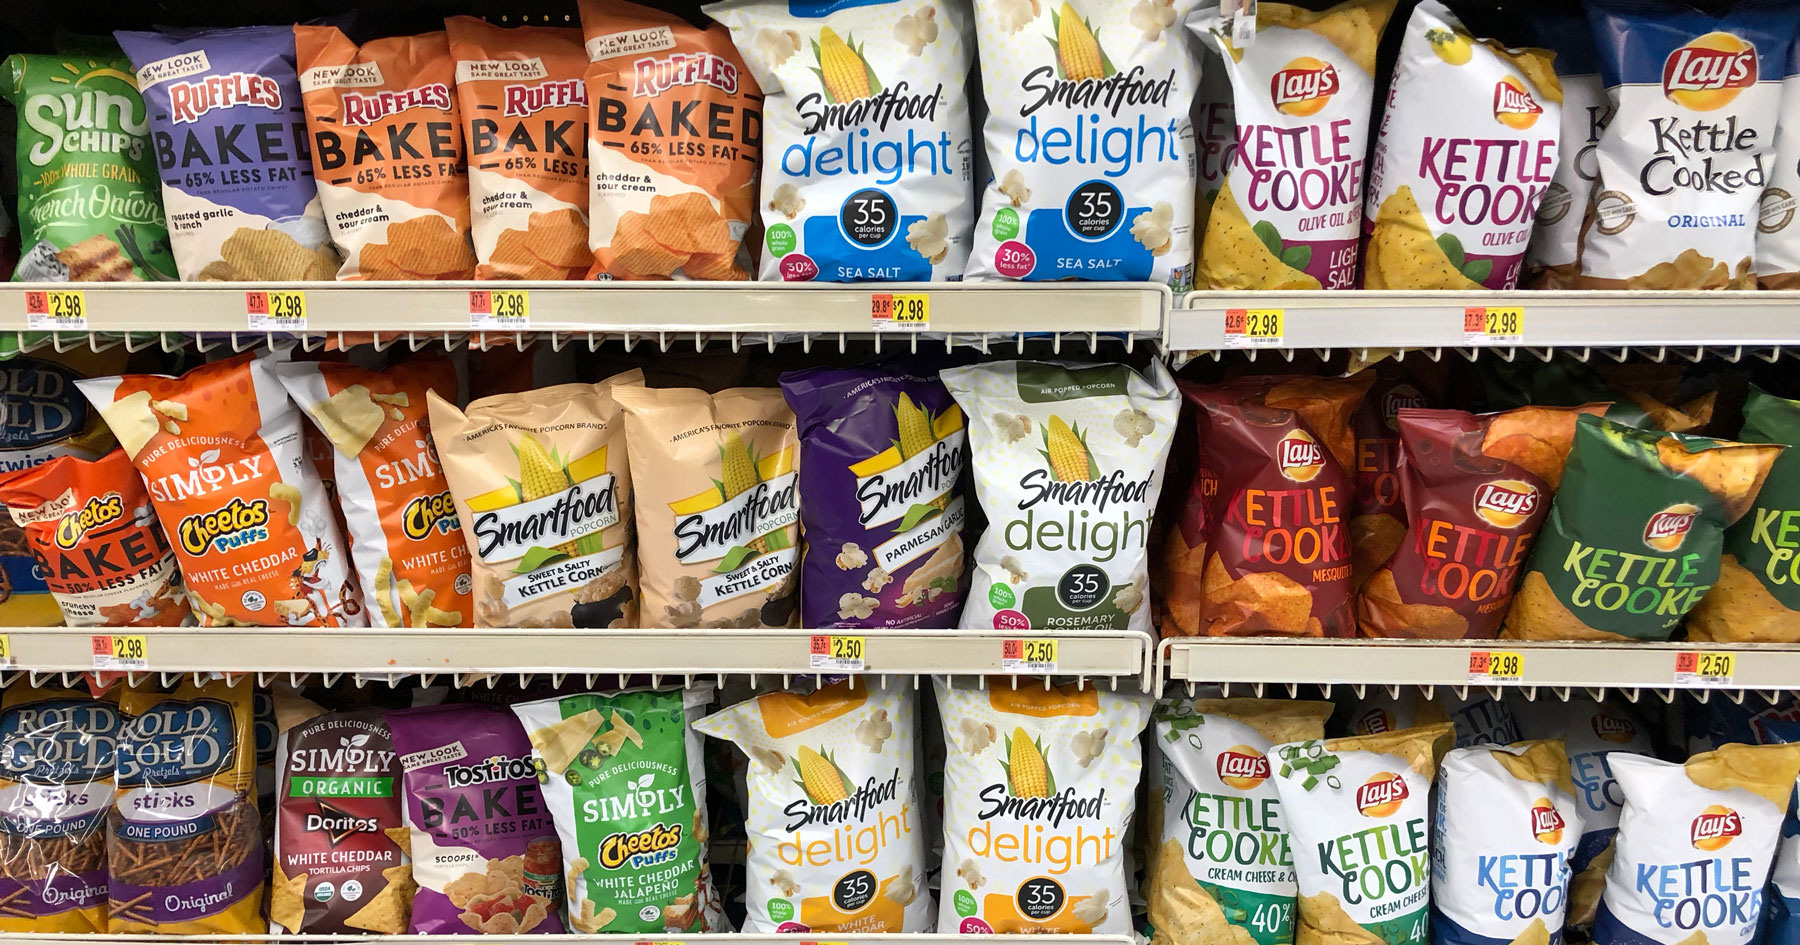chip: (115, 384, 356, 637), (745, 8, 957, 286), (982, 10, 1179, 295), (955, 694, 1154, 945), (1177, 387, 1363, 650), (1193, 12, 1356, 302), (977, 378, 1160, 634), (138, 38, 310, 298), (1385, 15, 1536, 302), (299, 31, 464, 293), (792, 375, 951, 636), (740, 676, 904, 931), (1604, 27, 1757, 295), (589, 27, 745, 286), (1149, 695, 1304, 937), (451, 30, 596, 286), (1390, 417, 1542, 650), (563, 689, 708, 930), (1575, 417, 1721, 653), (636, 393, 782, 620), (7, 67, 155, 292), (490, 380, 627, 621), (1307, 738, 1464, 941), (270, 722, 412, 932), (411, 721, 551, 926), (1455, 761, 1564, 941)
